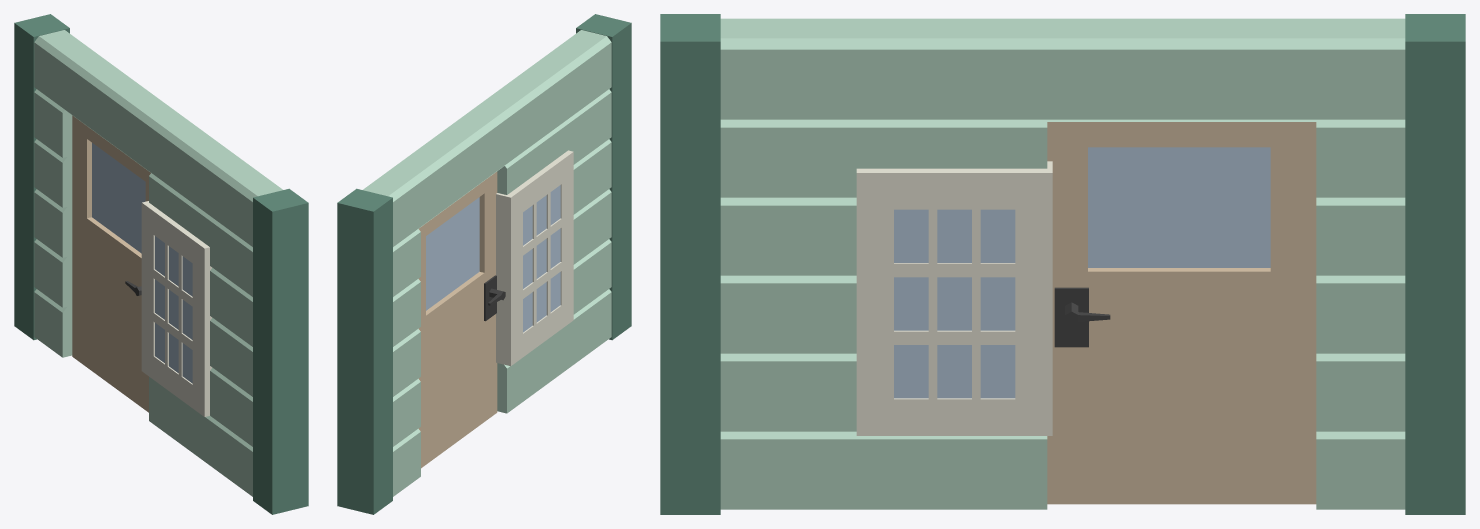
The model's file is Door01_house3.fbx.
3 renders of one model, left to right at view 1: azimuth 30°, elevation 25°; view 2: azimuth 150°, elevation 25°; view 3: azimuth 270°, elevation 25°, orthographic. The views are drawn at different scales.
Visible parts, largest first — view 1: Door01_house03; view 2: Door01_house03; view 3: Door01_house03.
Part boxes in pixels (bbox=[...]): Door01_house03: bbox=[14, 14, 308, 514]; Door01_house03: bbox=[337, 14, 631, 514]; Door01_house03: bbox=[660, 14, 1465, 514].
Size of the model in its own units: 53.2 by 334 by 516.
